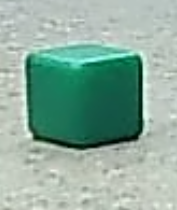green_cube: (20, 42, 150, 154)
